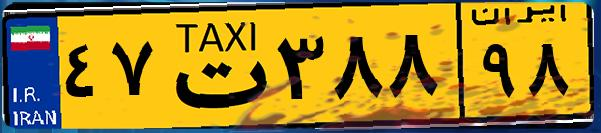3: (270, 28, 330, 110)
4: (57, 26, 110, 100)
7: (110, 28, 158, 98)
8: (385, 28, 445, 110), (330, 28, 385, 110), (525, 38, 570, 115)
9: (475, 38, 525, 113)
ت: (158, 12, 270, 120)
